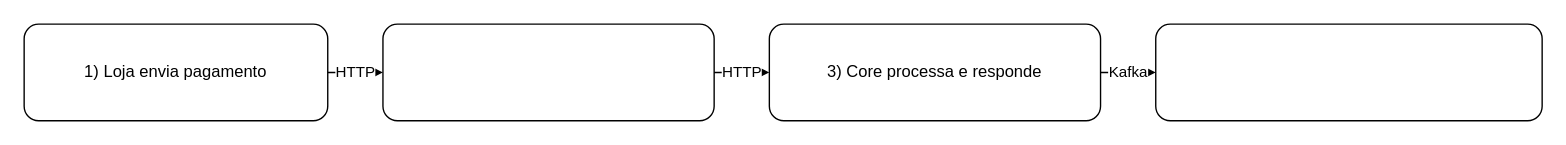
The diagram is 1566 pixels wide and 145 high, and some of its shapes have lost their labels. Here are the shapes that lost their labels. From the top down, the centre of each, then its label:
At point 548,72: "2) API valida e encaminha".
At point 1348,72: "4) Atualiza status (assíncrono)".
